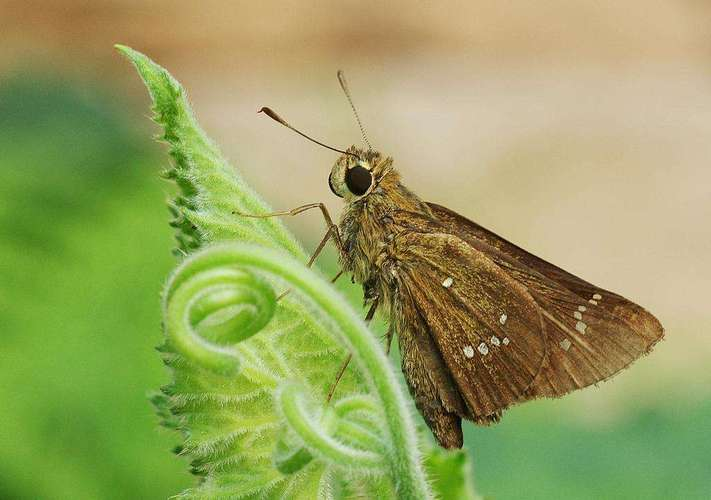Hesperiidae: (234, 71, 671, 454)
